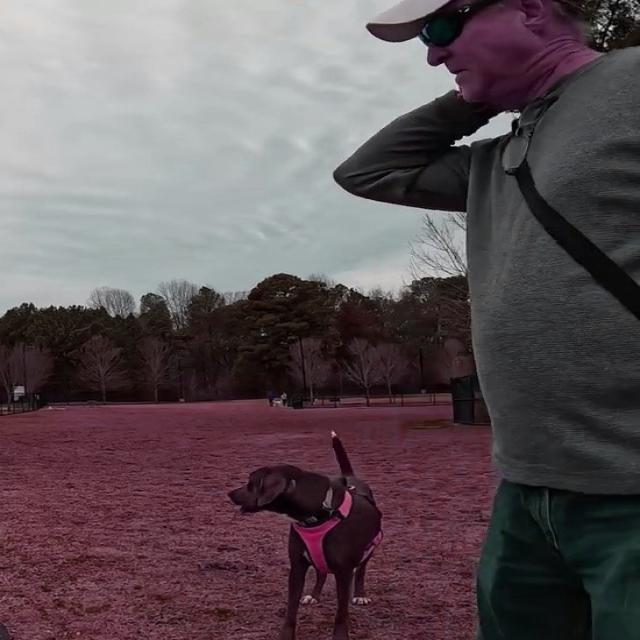Unleashed_Dog: (228, 424, 640, 640)
